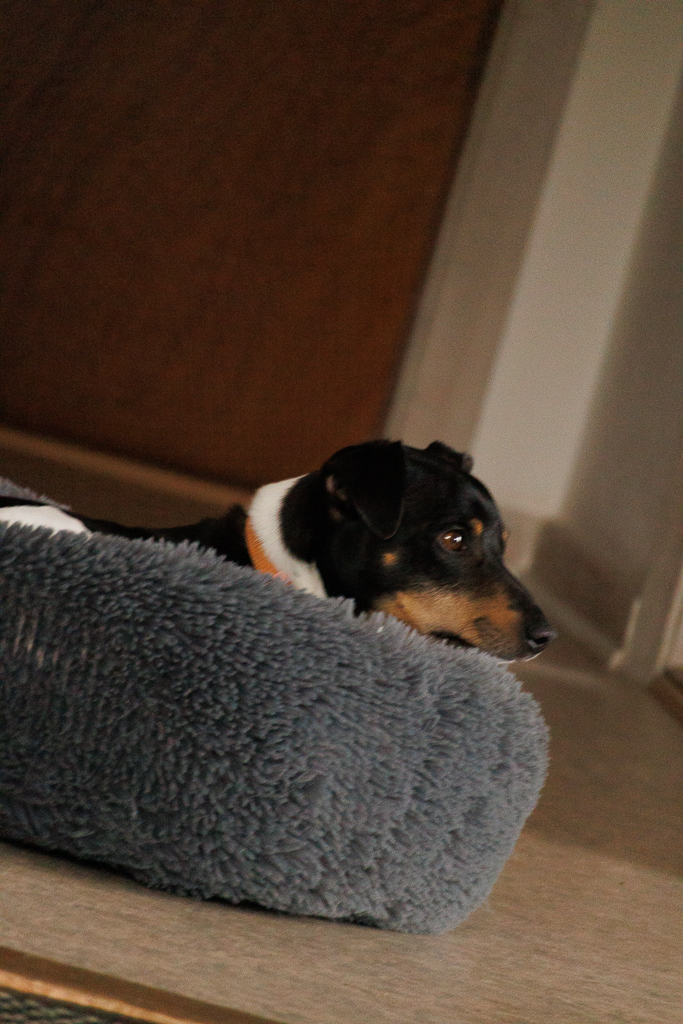Dog: (0, 430, 567, 678)
